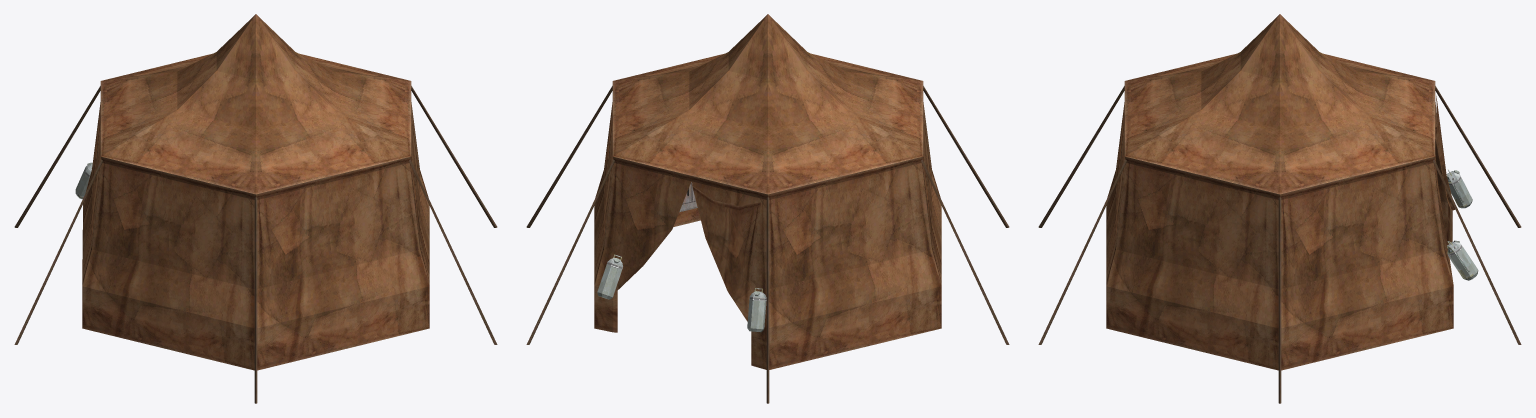
Rendered from poi_tato_tent_s01_l0.fbx.
3 views of the same model, side by side, from view 1: azimuth 30°, elevation 25°; view 2: azimuth 150°, elevation 25°; view 3: azimuth 270°, elevation 25° (orthographic).
Parts seen in each view (by area): view 1: mesh_node; view 2: mesh_node; view 3: mesh_node.
Boxes of the visible parts, x1,y1,x2,y2 form: mesh_node: (14,14,497,403); mesh_node: (526,14,1009,403); mesh_node: (1038,14,1521,403).
Bounding box in the file's own units: 11.99 × 6.45 × 10.38.
